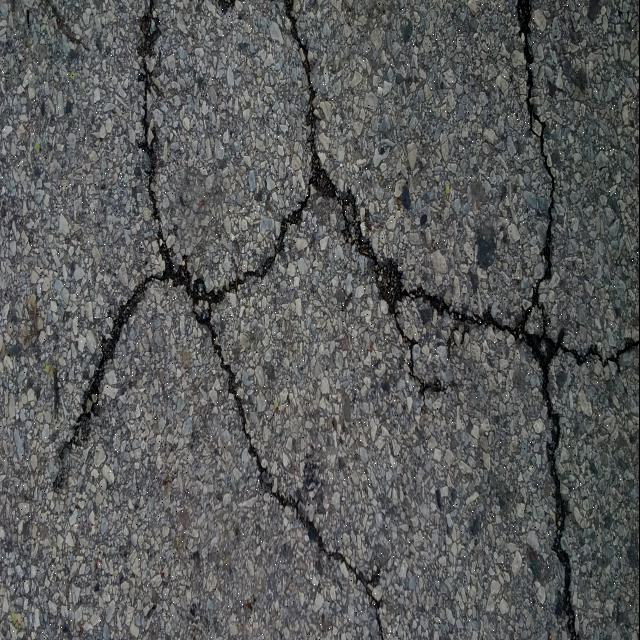Crack: (54, 0, 640, 640)
